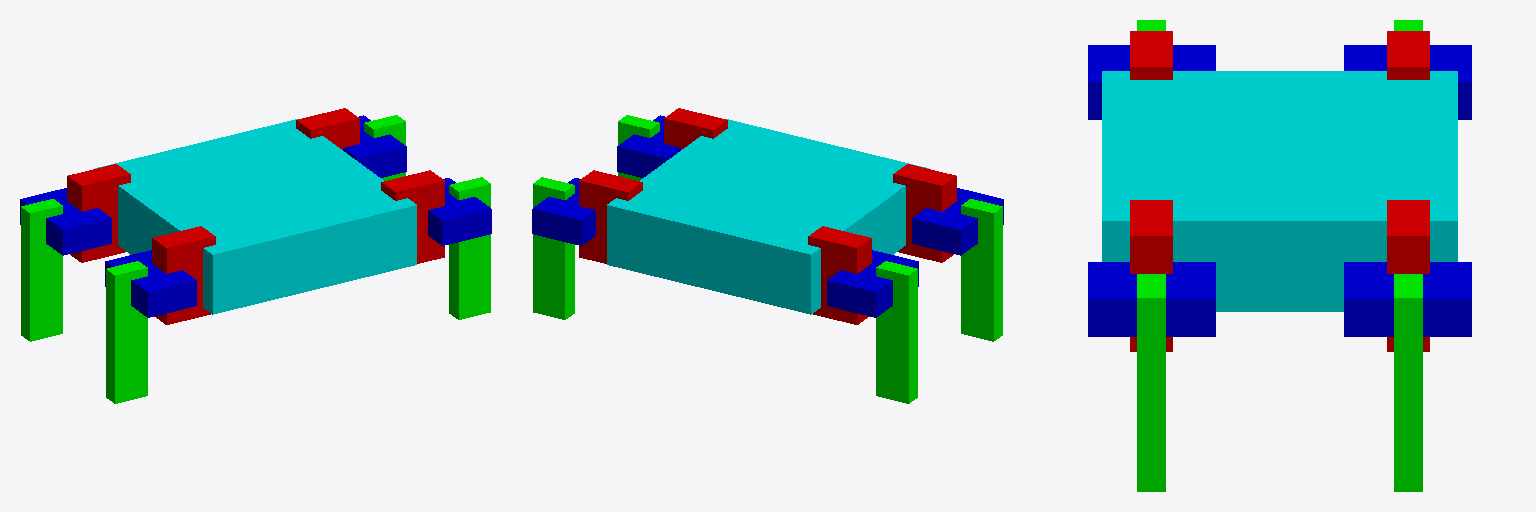
The robot description file, URDF, robot "pi_robot":
<?xml version="1.0" encoding="UTF-8"?>
<robot name="pi_robot">
	<!-- * * * Joint Definitions * * * -->

  <!-- * * * LEFT FRONT LEG Definitions * * * -->
	<link name="left_v_front_link">
		<visual>
			<origin xyz="0.025 0 0" rpy="0 0 0" />
			<geometry>
				<box size="0.03 0.015 0.045" />
			</geometry>
			<material name="Red1" />
		</visual>
    <collision>
			<origin xyz="0.025 0 0" rpy="0 0 0" />
			<geometry>
				<box size="0.03 0.015 0.045" />
			</geometry>
    </collision>
	</link>
  <link name="left_h_front_link">
		<visual>
			<origin xyz="0.025 0 0" rpy="0 0 0" />
			<geometry>
				<box size="0.03 0.045 0.015" />
			</geometry>
			<material name="Blue1" />
		</visual>
    <collision>
			<origin xyz="0.025 0 0" rpy="0 0 0" />
			<geometry>
				<box size="0.03 0.045 0.015" />
			</geometry>
    </collision>
	</link>
  <link name="left_front_leg_link">
		<visual>
			<origin xyz="0 0 -0.025" rpy="0 0 0" />
			<geometry>
				<box size="0.02 0.01 0.075" />
			</geometry>
			<material name="Green1" />
		</visual>
    <collision>
			<origin xyz="0 0 -0.025" rpy="0 0 0" />
			<geometry>
				<box size="0.02 0.01 0.075" />
			</geometry>
    </collision>
	</link>
  <joint name="left_front_joint" type="revolute">
		<parent link="base_link" />
		<child link="left_v_front_link" />
		<origin xyz="0.045 0.045 0" rpy="0 0 0" />
		<axis xyz="0 0 1" />
		<limit lower="-0.4" upper="2.5" effort="10" velocity="3" />
	</joint>
  <joint name="left_h_front_joint" type="fixed">
		<parent link="left_v_front_link" />
		<child link="left_h_front_link" />
		<origin xyz="0.02 0 0" rpy="0 0 0" />
	</joint>
  <joint name="left_front_leg_joint" type="revolute">
		<parent link="left_h_front_link" />
		<child  link="left_front_leg_link" />
		<origin xyz="0.04 0 0" rpy="0 0 0" />
		<axis xyz="0 1 0" />
		<limit lower="-0.6" upper="0.7" effort="10" velocity="3" />
	</joint>

  <!-- * * * RIGHT FRONT LEG Definitions * * * -->
	<link name="right_v_front_link">
		<visual>
			<origin xyz="0.025 0 0" rpy="0 0 0" />
			<geometry>
				<box size="0.03 0.015 0.045" />
         <!-- <mesh filename="meshes/servo_joint.stl"/> -->
			</geometry>
			<material name="Red1" />
		</visual>
    <collision>
			<origin xyz="0.025 0 0" rpy="0 0 0" />
			<geometry>
				<box size="0.03 0.015 0.045" />
         <!-- <mesh filename="meshes/servo_joint.stl"/> -->
			</geometry>
    </collision>
	</link>
  <link name="right_h_front_link">
		<visual>
			<origin xyz="0.025 0 0" rpy="0 0 0" />
			<geometry>
				<box size="0.03 0.045 0.015" />
			</geometry>
			<material name="Blue1" />
		</visual>
    <collision>
      <origin xyz="0.025 0 0" rpy="0 0 0" />
			<geometry>
				<box size="0.03 0.045 0.015" />
			</geometry>
    </collision>
	</link>
  <link name="right_front_leg_link">
		<visual>
			<origin xyz="0 0 -0.025" rpy="0 0 0" />
			<geometry>
				<box size="0.02 0.01 0.075" />
			</geometry>
			<material name="Green1" />
		</visual>
    <collision>
      <origin xyz="0 0 -0.025" rpy="0 0 0" />
			<geometry>
				<box size="0.02 0.01 0.075" />
			</geometry>
    </collision>
	</link>
  <joint name="right_front_joint" type="revolute">
		<parent link="base_link" />
		<child link="right_v_front_link" />
		<origin xyz="0.045 -0.045 0" rpy="0 0 0" />
		<axis xyz="0 0 1" />
		<limit lower="-2.5" upper="0.4" effort="10" velocity="3" />
	</joint>
  <joint name="right_h_front_joint" type="fixed">
		<parent link="right_v_front_link" />
		<child  link="right_h_front_link" />
		<origin xyz="0.02 0 0" rpy="0 0 0" />
	</joint>
  <joint name="right_front_leg_joint" type="revolute">
		<parent link="right_h_front_link" />
		<child link="right_front_leg_link" />
		<origin xyz="0.04 0 0" rpy="0 0 0" />
		<axis xyz="0 1 0" />
		<limit lower="-0.6" upper="0.7" effort="10" velocity="3" />
	</joint>

  <!-- * * * LEFT BACK LEG Definitions * * * -->
	<link name="left_v_back_link">
		<visual>
			<origin xyz="-0.025 0 0" rpy="0 0 0" />
			<geometry>
				<box size="0.03 0.015 0.045" />
			</geometry>
			<material name="Red1" />
		</visual>
    <collision>
      <origin xyz="-0.025 0 0" rpy="0 0 0" />
			<geometry>
				<box size="0.03 0.015 0.045" />
			</geometry>
    </collision>
	</link>
  <link name="left_h_back_link">
		<visual>
			<origin xyz="-0.025 0 0" rpy="0 0 0" />
			<geometry>
				<box size="0.03 0.045 0.015" />
			</geometry>
			<material name="Blue1" />
		</visual>
    <collision>
      <origin xyz="-0.025 0 0" rpy="0 0 0" />
			<geometry>
				<box size="0.03 0.045 0.015" />
			</geometry>
    </collision>
	</link>
  <link name="left_back_leg_link">
		<visual>
			<origin xyz="0 0 -0.025" rpy="0 0 0" />
			<geometry>
				<box size="0.02 0.01 0.075" />
			</geometry>
			<material name="Green1" />
		</visual>
    <collision>
      <origin xyz="0 0 -0.025" rpy="0 0 0" />
			<geometry>
				<box size="0.02 0.01 0.075" />
			</geometry>
    </collision>
	</link>
  <joint name="left_back_joint" type="revolute">
		<parent link="base_link" />
		<child link="left_v_back_link" />
		<origin xyz="-0.045 0.045 0" rpy="0 0 0" />
		<axis xyz="0 0 1" />
		<limit lower="-2.5" upper="0.4" effort="10" velocity="3" />
	</joint>
  <joint name="left_h_back_joint" type="fixed">
		<parent link="left_v_back_link" />
		<child  link="left_h_back_link" />
		<origin xyz="-0.02 0 0" rpy="0 0 0" />
	</joint>
  <joint name="left_back_leg_joint" type="revolute">
		<parent link="left_h_back_link" />
		<child link="left_back_leg_link" />
		<origin xyz="-0.04 0 0" rpy="0 0 0" />
		<axis xyz="0 1 0" />
		<limit lower="-0.6" upper="0.7" effort="10" velocity="3" />
	</joint>

  <!-- * * * RIGHT BACK LEG Definitions * * * -->
	<link name="right_v_back_link">
		<visual>
			<origin xyz="-0.025 0 0" rpy="0 0 0" />
			<geometry>
				<box size="0.03 0.015 0.045" />
			</geometry>
			<material name="Red1" />
		</visual>
    <collision>
      <origin xyz="-0.025 0 0" rpy="0 0 0" />
			<geometry>
				<box size="0.03 0.015 0.045" />
			</geometry>
    </collision>
	</link>
  <link name="right_h_back_link">
		<visual>
			<origin xyz="-0.025 0 0" rpy="0 0 0" />
			<geometry>
				<box size="0.03 0.045 0.015" />
			</geometry>
			<material name="Blue1" />
		</visual>
    <collision>
      <origin xyz="-0.025 0 0" rpy="0 0 0" />
			<geometry>
				<box size="0.03 0.045 0.015" />
			</geometry>
    </collision>
	</link>
  <link name="right_back_leg_link">
		<visual>
			<origin xyz="0 0 -0.025" rpy="0 0 0" />
			<geometry>
				<box size="0.02 0.01 0.075" />
			</geometry>
			<material name="Green1" />
		</visual>
    <collision>
      <origin xyz="0 0 -0.025" rpy="0 0 0" />
			<geometry>
				<box size="0.02 0.01 0.075" />
			</geometry>
    </collision>
	</link>
  <joint name="right_back_joint" type="revolute">
		<parent link="base_link" />
		<child  link="right_v_back_link" />
		<origin xyz="-0.045 -0.045 0" rpy="0 0 0" />
		<axis xyz="0 0 1" />
		<limit lower="-0.4" upper="2.5" effort="10" velocity="3" />
	</joint>
  <joint name="right_h_back_joint" type="fixed">
		<parent link="right_v_back_link" />
		<child  link="right_h_back_link" />
		<origin xyz="-0.02 0 0" rpy="0 0 0" />
	</joint>
  <joint name="right_back_leg_joint" type="revolute">
		<parent link="right_h_back_link" />
		<child link="right_back_leg_link" />
		<origin xyz="-0.04 0 0" rpy="0 0 0" />
		<axis xyz="0 1 0" />
		<limit lower="-0.6" upper="0.7" effort="10" velocity="3" />
	</joint>
	
	<!-- * * * BASE LINK Definitions * * * -->
	<link name="base_link">
		<visual>
			<origin xyz="0 0 0" rpy="0 0 0" />
			<geometry>
				<box size="0.125 0.125 0.035" />
			</geometry>
			<material name="Cyan1" />
		</visual>
    <collision>
      <origin xyz="0 0 0" rpy="0 0 0" />
			<geometry>
				<box size="0.125 0.125 0.035" />
			</geometry>
    </collision>
	</link>
	<!-- * * * Colors Definitions * * * -->
	<material name="Red1">
		<color rgba="0.9 0 0 1.0" />
	</material>
	<material name="Cyan1">
		<color rgba="0 0.9 0.9 1.0" />
	</material>
	<material name="Black1">
		<color rgba="0.2 0.2 0.2 1.0" />
	</material>
	<material name="Green1">
		<color rgba="0 1 0 1.0" />
	</material>
	<material name="Blue1">
		<color rgba="0 0 0.9 1.0" />
	</material>
	<material name="Grey1">
		<color rgba="0.9 0.9 0.9 1.0" />
	</material>
</robot>

--- Render facts (derived) ---
The picture shows the robot from 3 angles, left to right: view 1: azimuth 30°, elevation 25°; view 2: azimuth 150°, elevation 25°; view 3: azimuth 270°, elevation 25°; orthographic projection.
Model pi_robot with 13 links and 12 joints (8 revolute, 4 fixed), rooted at base_link, posed every joint at zero.
Links seen in each view (by area): view 1: base_link, right_back_leg_link, left_back_leg_link, right_front_leg_link, left_h_back_link, right_h_back_link, left_v_back_link, right_v_back_link, right_v_front_link, right_h_front_link, left_h_front_link, left_v_front_link (+1 smaller); view 2: base_link, left_back_leg_link, right_back_leg_link, left_front_leg_link, right_h_back_link, left_h_back_link, left_v_back_link, right_v_back_link, left_v_front_link, left_h_front_link, right_h_front_link, right_v_front_link (+1 smaller); view 3: base_link, left_h_front_link, right_h_front_link, left_front_leg_link, right_front_leg_link, left_v_front_link, right_v_front_link, left_h_back_link, right_h_back_link, left_v_back_link, right_v_back_link.
Boxes of the visible links, x1,y1,x2,y2 form: base_link: (95, 119, 416, 314); right_back_leg_link: (106, 261, 147, 403); left_back_leg_link: (21, 199, 62, 341); right_front_leg_link: (449, 177, 490, 319); left_h_back_link: (20, 188, 111, 255); right_h_back_link: (105, 250, 196, 317); left_v_back_link: (67, 164, 130, 262); right_v_back_link: (152, 226, 215, 324); right_v_front_link: (381, 170, 444, 263); right_h_front_link: (428, 178, 491, 245); left_h_front_link: (343, 115, 406, 177); left_v_front_link: (296, 108, 359, 149); base_link: (607, 119, 928, 314); left_back_leg_link: (876, 261, 917, 403); right_back_leg_link: (961, 199, 1002, 341); left_front_leg_link: (533, 177, 574, 319); right_h_back_link: (912, 188, 1003, 255); left_h_back_link: (827, 250, 918, 317); left_v_back_link: (808, 226, 871, 324); right_v_back_link: (893, 164, 956, 262); left_v_front_link: (579, 170, 642, 263); left_h_front_link: (532, 178, 595, 245); right_h_front_link: (617, 115, 680, 177); right_v_front_link: (664, 108, 727, 149); base_link: (1102, 71, 1457, 311); left_h_front_link: (1344, 262, 1471, 336); right_h_front_link: (1088, 262, 1215, 336); left_front_leg_link: (1394, 274, 1422, 491); right_front_leg_link: (1137, 274, 1165, 491); left_v_front_link: (1387, 200, 1429, 351); right_v_front_link: (1130, 200, 1172, 351); left_h_back_link: (1344, 45, 1471, 119); right_h_back_link: (1088, 45, 1215, 119); left_v_back_link: (1387, 31, 1429, 79); right_v_back_link: (1130, 31, 1172, 79).
Bounding box of the posed robot: 0.23 × 0.135 × 0.085 m (x, y, z).
Geometry: primitives only (box / cylinder / sphere), no mesh files.